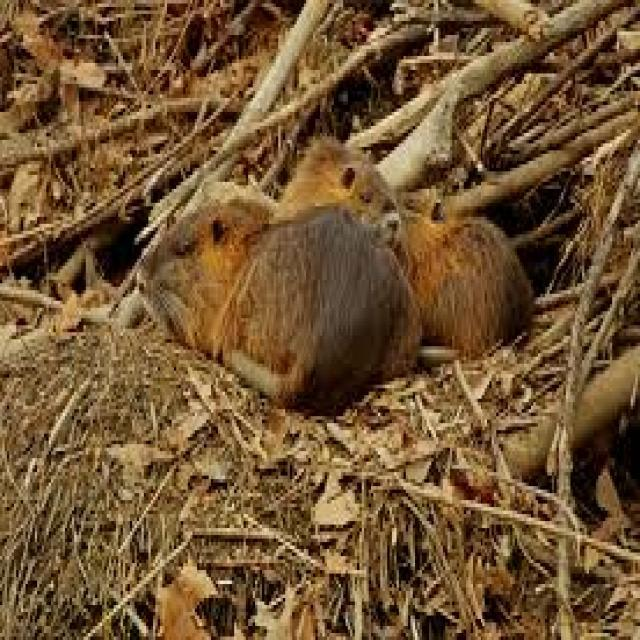Rat: (158, 84, 545, 431)
